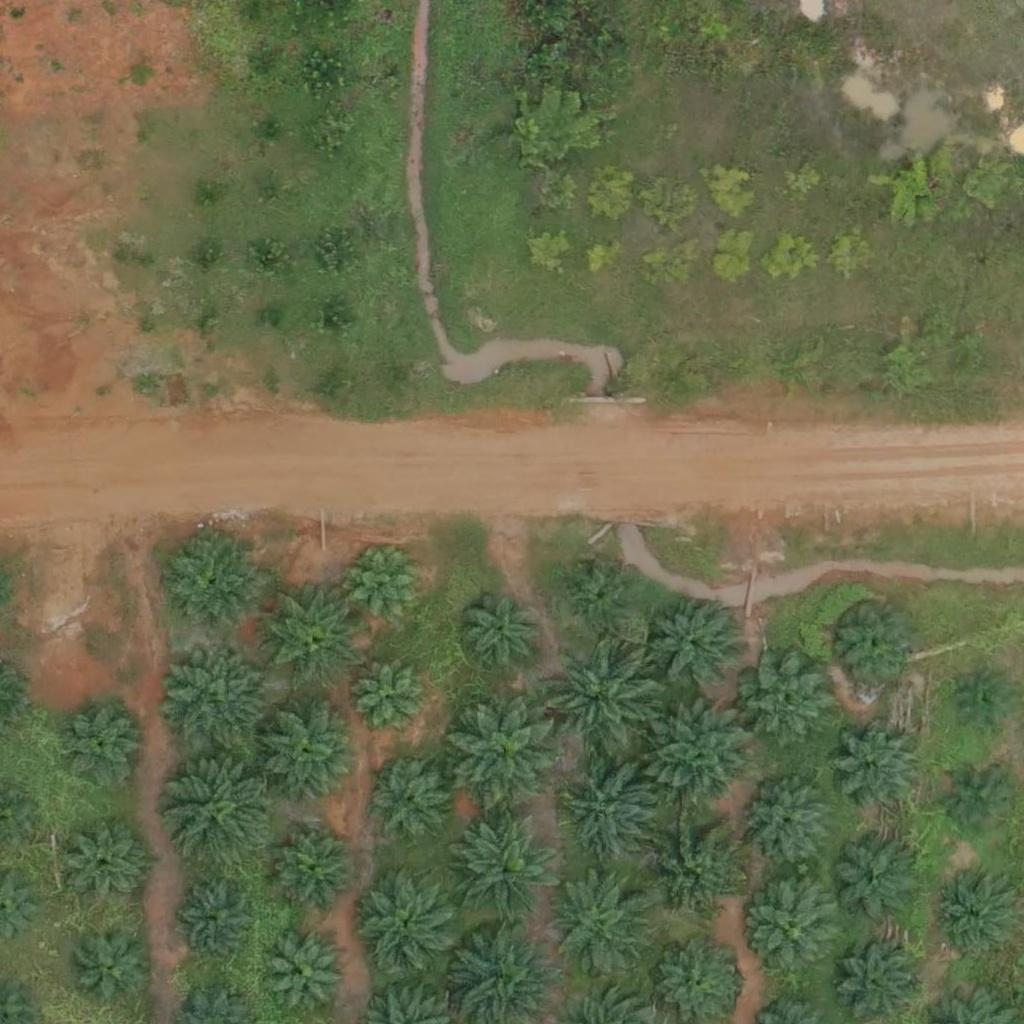Kelapa_Sawit: (548, 629, 673, 754), (163, 646, 276, 760), (169, 753, 282, 867), (450, 693, 563, 806), (455, 812, 568, 925), (164, 533, 264, 634), (262, 584, 362, 685), (563, 759, 663, 860), (553, 874, 653, 975), (651, 705, 751, 806), (643, 821, 743, 922), (262, 704, 362, 804), (359, 871, 459, 971), (749, 883, 837, 972), (652, 603, 740, 691), (932, 870, 1020, 958), (459, 589, 546, 678), (347, 542, 434, 630), (743, 657, 830, 745), (745, 782, 832, 870), (833, 724, 920, 812), (831, 837, 918, 925), (68, 827, 143, 903), (838, 603, 913, 679), (63, 707, 138, 783), (183, 880, 258, 956), (275, 833, 350, 909), (270, 937, 345, 1013), (377, 766, 452, 842), (352, 659, 427, 734), (76, 927, 151, 1002), (949, 769, 1011, 832), (572, 566, 634, 629), (959, 679, 1009, 729)
